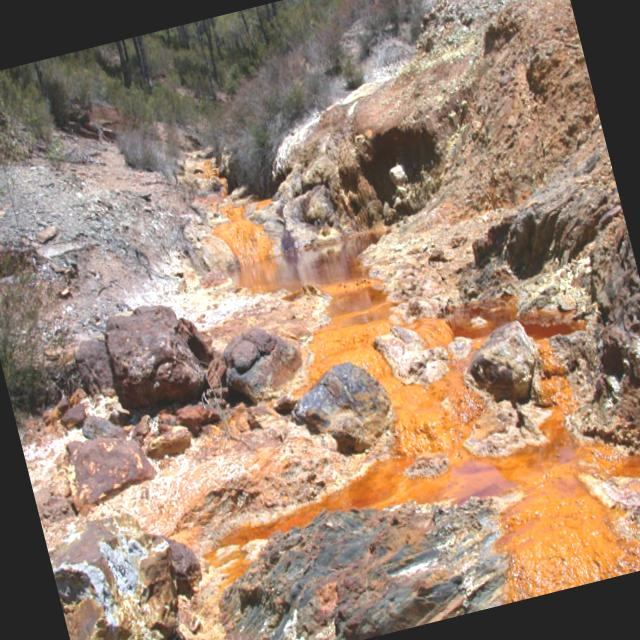yellow_boy: (214, 193, 640, 601)
